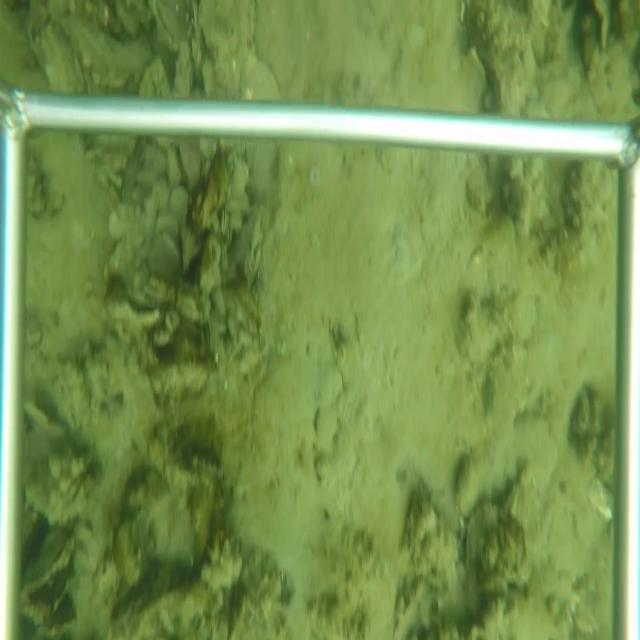Oyster-Indeterminate: (465, 0, 539, 125)
Oyster-Open: (148, 0, 186, 49)
